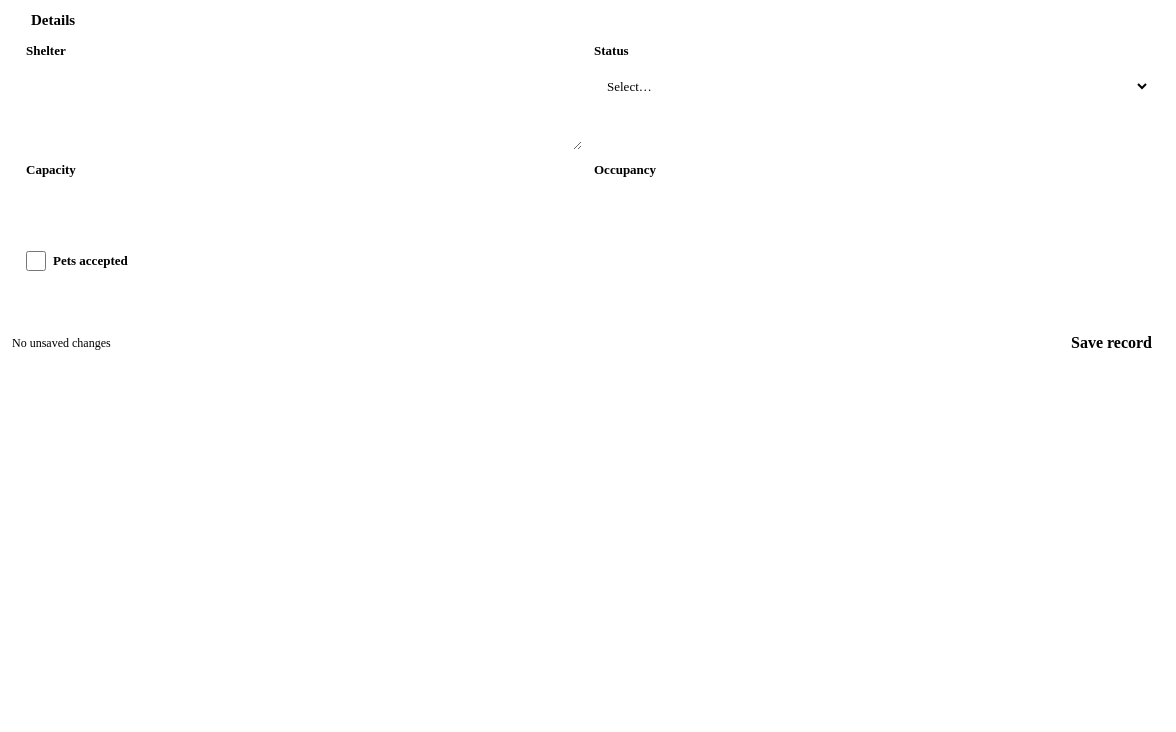
Scenario: RecordForm (input view) › blocks an invalid record with a visible error and no submit
The width and height of the screenshot is (1176, 732).
Click the button "Save record" at [1112, 343], box [1059,321,1164,365]
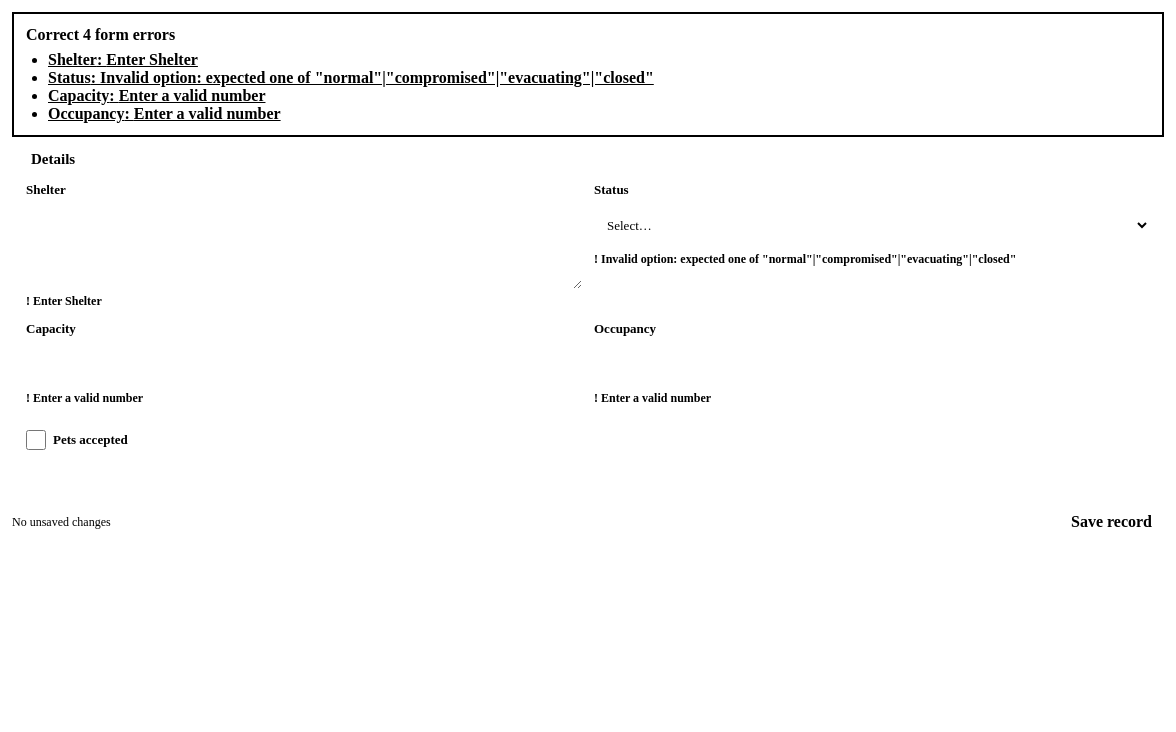
Expected: the message is shown, [12,12,1164,137]
